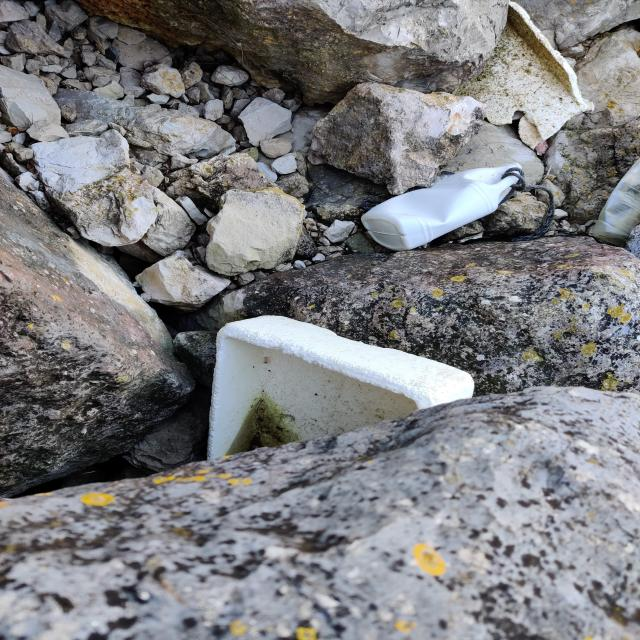litter: (208, 309, 476, 461), (357, 163, 522, 250)
